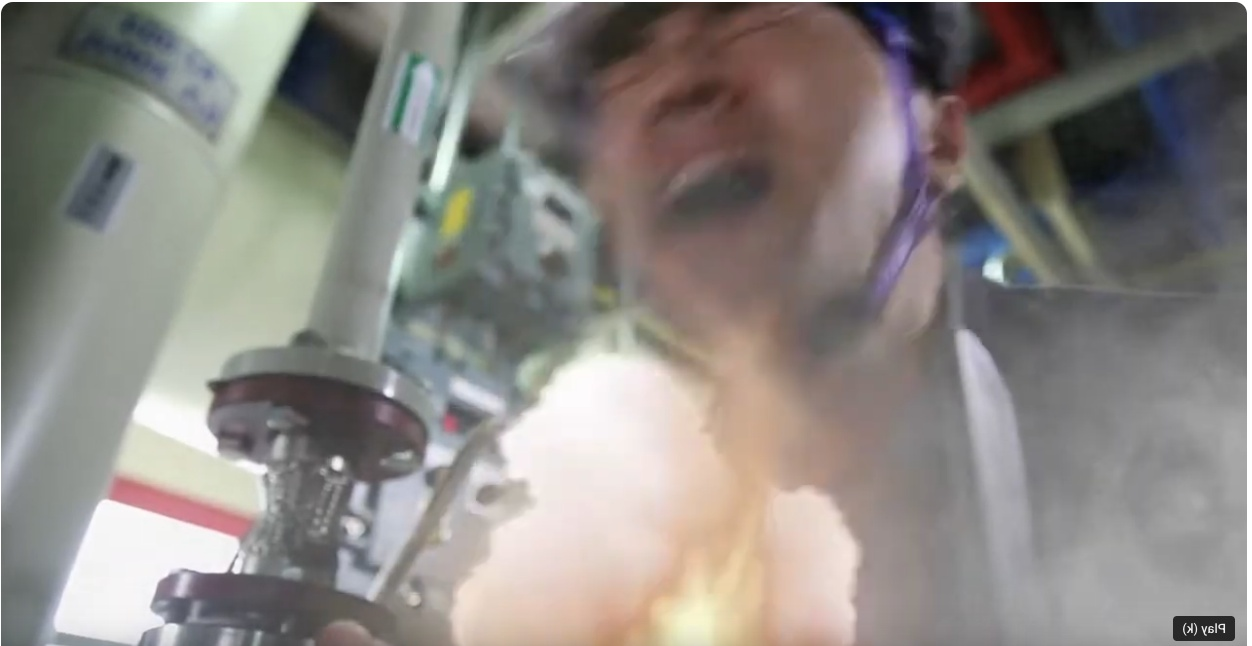smoke: (429, 323, 880, 646)
